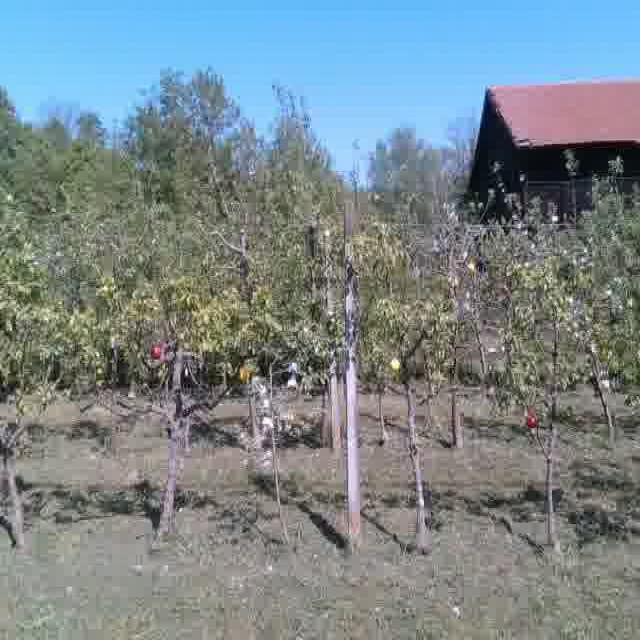red: (524, 412, 540, 429), (149, 342, 164, 360)
yellow: (390, 356, 401, 370)
